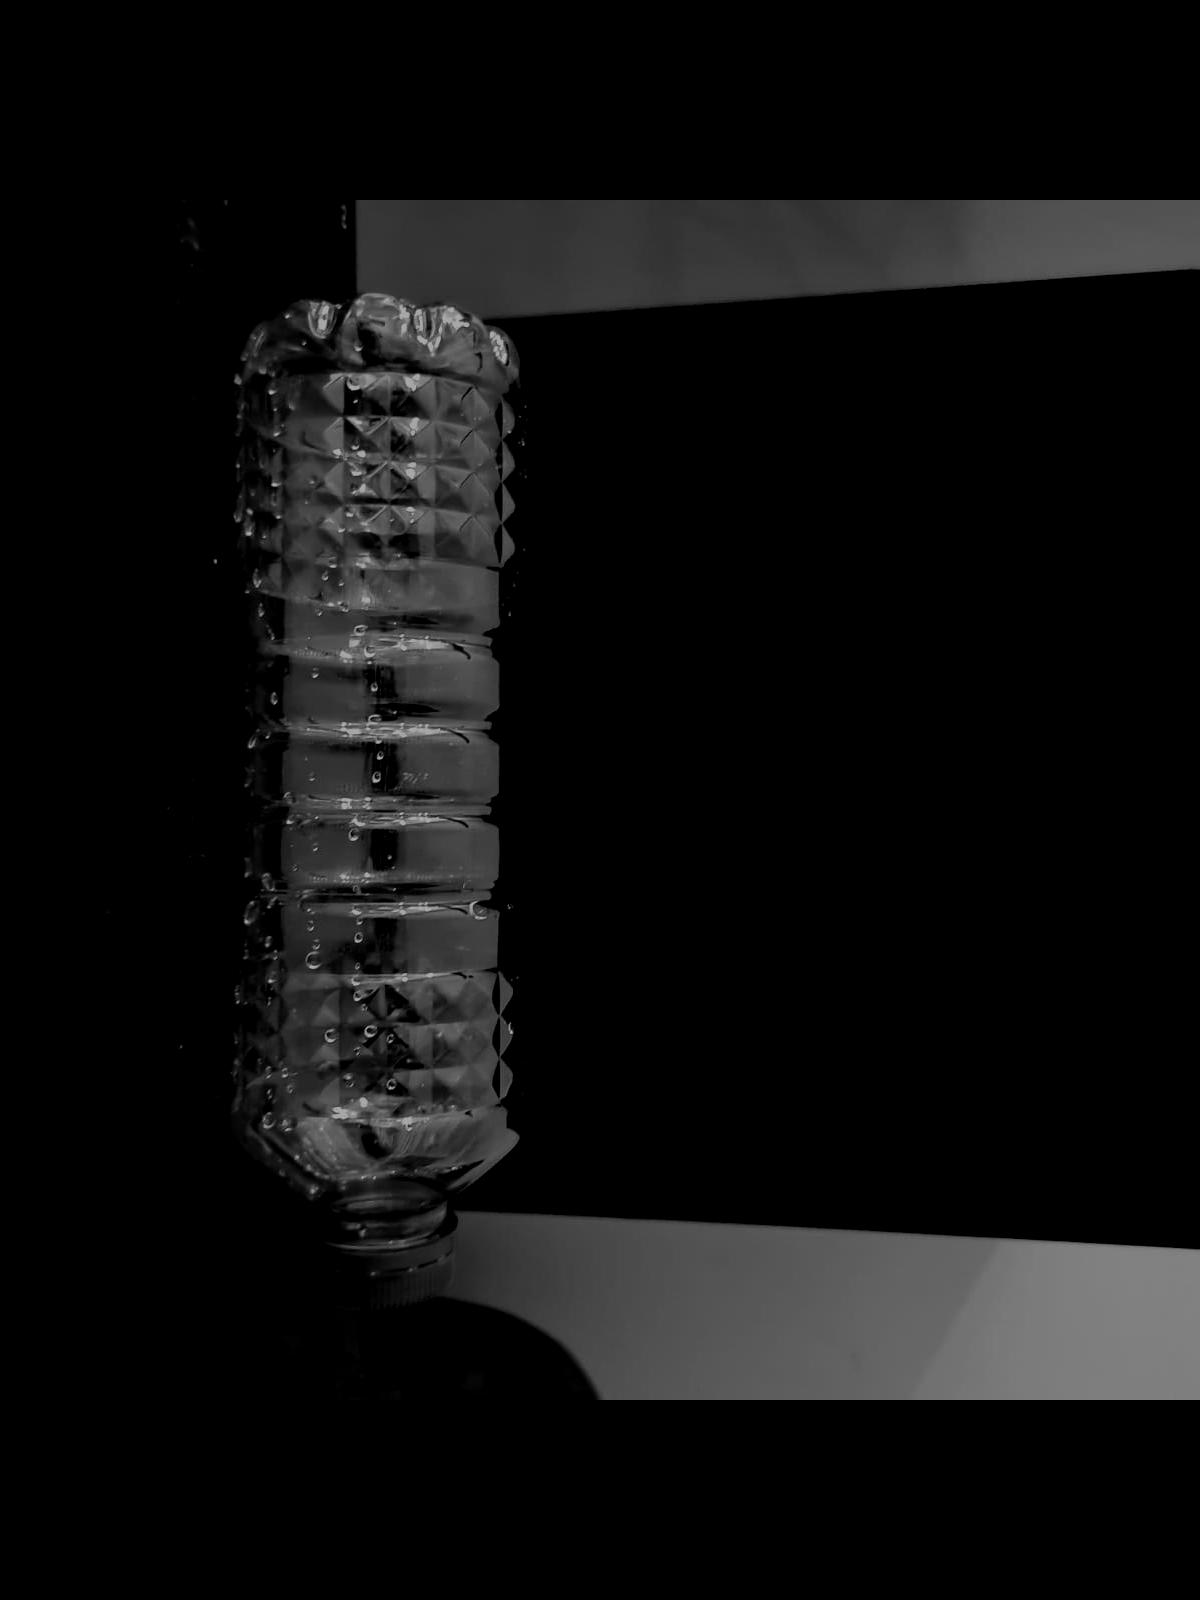bottle: (187, 278, 563, 1320)
